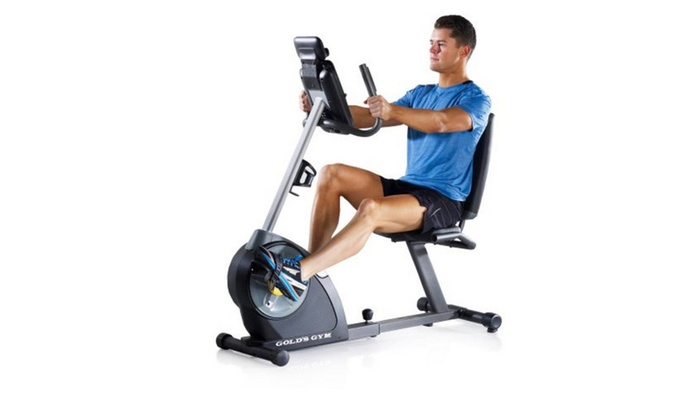gym_bike: (197, 38, 507, 375)
